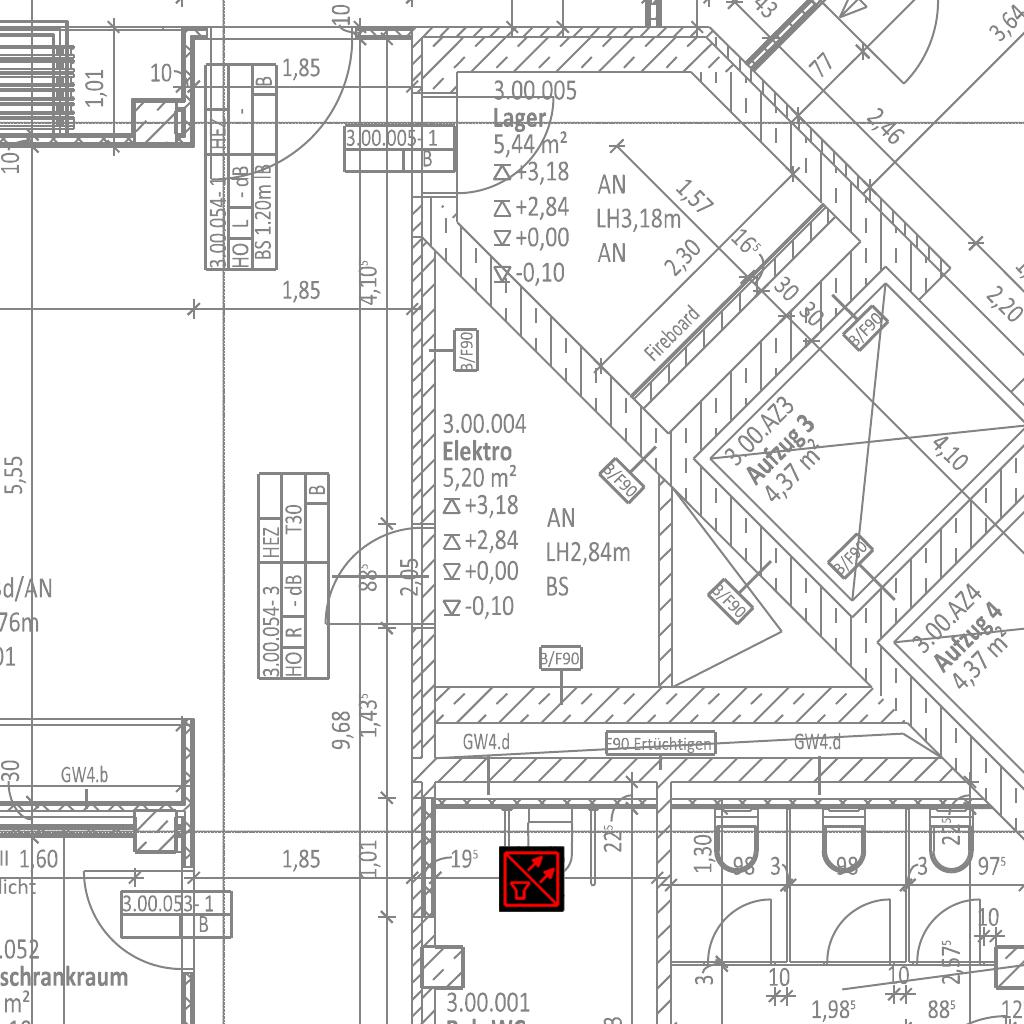OKW_Multisensormelder_(Kombination_optischer_Rauch-Kahlenmonoxid_Waerme-Melder): (499, 846, 565, 912)
